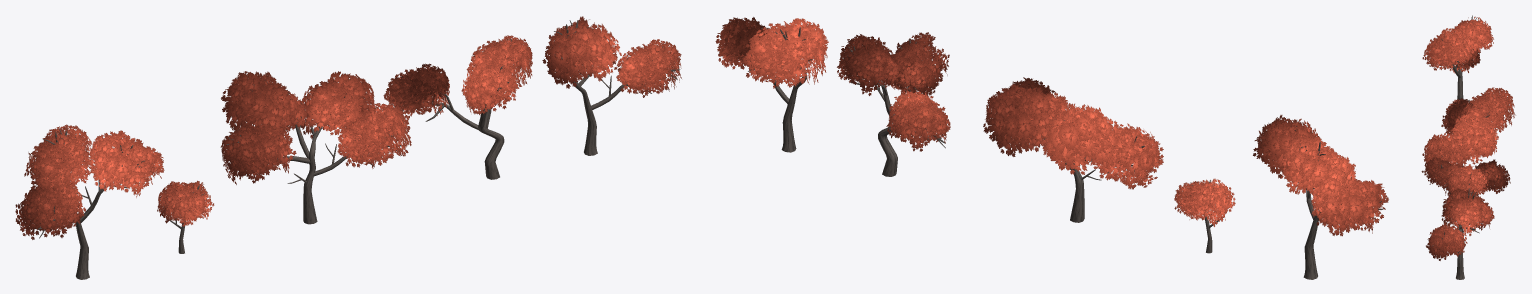
File: MapleTrees.fbx
3 views of the same model, side by side, from view 1: azimuth 30°, elevation 25°; view 2: azimuth 150°, elevation 25°; view 3: azimuth 270°, elevation 25° (orthographic). The views are drawn at different scales.
Parts seen in each view (by area): view 1: MapleTree_3, MapleTree_5, MapleTree_2, MapleTree_1, MapleTree_4; view 2: MapleTree_3, MapleTree_5, MapleTree_2, MapleTree_1, MapleTree_4; view 3: MapleTree_3, MapleTree_1, MapleTree_5, MapleTree_2.
Boxes of the visible parts, <box> form: MapleTree_3: <box>220,71,411,224</box>; MapleTree_5: <box>15,124,164,279</box>; MapleTree_2: <box>383,35,532,179</box>; MapleTree_1: <box>542,16,681,155</box>; MapleTree_4: <box>157,180,214,253</box>; MapleTree_3: <box>983,77,1163,222</box>; MapleTree_5: <box>1253,115,1388,279</box>; MapleTree_2: <box>837,32,950,176</box>; MapleTree_1: <box>715,17,828,152</box>; MapleTree_4: <box>1174,178,1235,253</box>; MapleTree_3: <box>1422,87,1515,167</box>; MapleTree_1: <box>1426,188,1494,279</box>; MapleTree_5: <box>1422,15,1493,99</box>; MapleTree_2: <box>1421,157,1510,246</box>.
Size of the model in its own units: 3421 by 729 by 668.
Materials: 2 (2 with a texture image).
